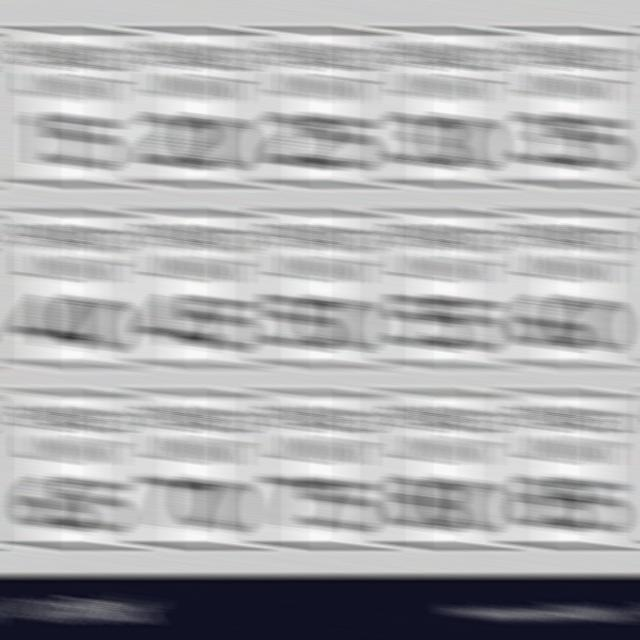speedLimit35: (386, 26, 504, 188)
